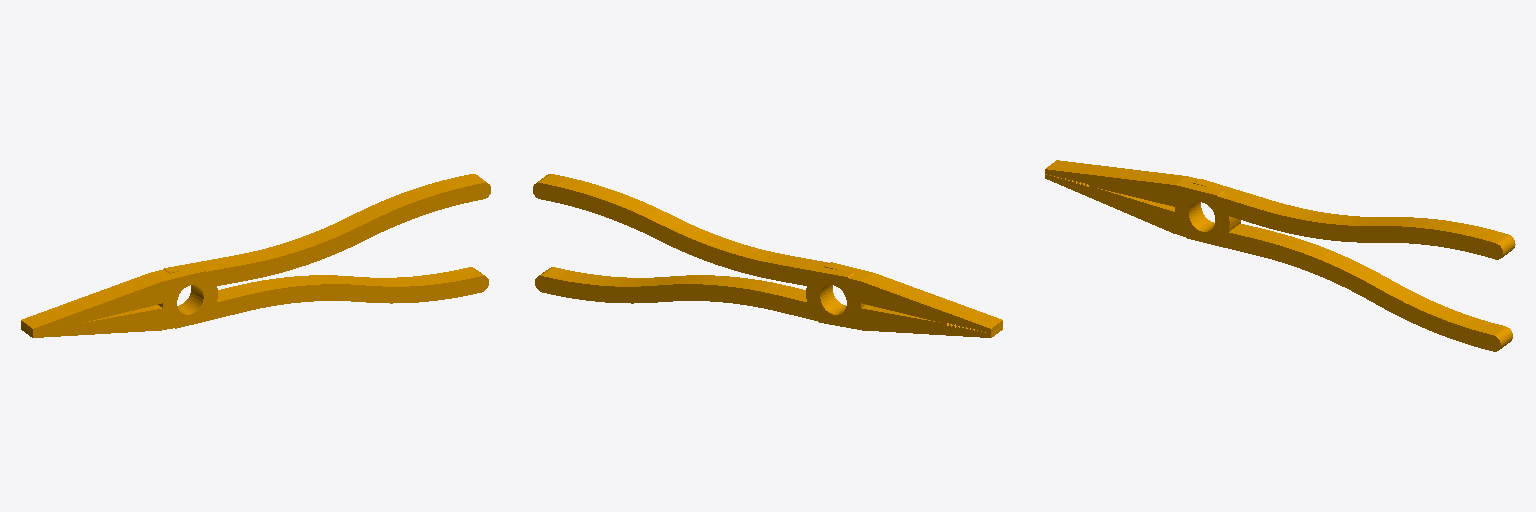
The robot description file, URDF, robot "plier_2_L0.65_T0.68":
<?xml version="1.0" encoding="utf-8"?>
<robot name="plier_2_L0.65_T0.68">
  <link name="plier_2_L0.65_T0.68Link">
    <contact>
      <lateral_friction value="1"/>
    </contact>
    <inertial>
      <origin rpy="0 0 0" xyz="0 0 0"/>
      <mass value="0.0"/>
      <inertia ixx="0" ixy="0" ixz="0" iyy="0" iyz="0" izz="0"/>
    </inertial>
    <visual>
      <origin rpy="0 0 0" xyz="0 0 0"/>
      <geometry>
        <mesh filename="generated_stl/plier/plier_2/plier_2_L0.65_T0.68/plier_2_L0.65_T0.68.stl" scale="0.01 0.01 0.01"/>
      </geometry>
    </visual>
    <collision>
      <origin rpy="0 0 0" xyz="0 0 0"/>
      <geometry>
        <mesh filename="generated_stl/plier/plier_2/plier_2_L0.65_T0.68/plier_2_L0.65_T0.68.stl" scale="0.01 0.01 0.01"/>
      </geometry>
    </collision>
  </link>
</robot>

--- Render facts (derived) ---
Views: 3 orthographic renders of the robot side by side, from view 1: azimuth 30°, elevation 25°; view 2: azimuth 150°, elevation 25°; view 3: azimuth 330°, elevation 25°.
Model plier_2_L0.65_T0.68 with 1 links and 0 joints (none), rooted at plier_2_L0.65_T0.68Link, posed all joints at 0.
Visible links, largest first — view 1: plier_2_L0.65_T0.68Link; view 2: plier_2_L0.65_T0.68Link; view 3: plier_2_L0.65_T0.68Link.
Boxes of the visible links, bbox=[...] form: plier_2_L0.65_T0.68Link: bbox=[21, 174, 490, 337]; plier_2_L0.65_T0.68Link: bbox=[533, 174, 1002, 337]; plier_2_L0.65_T0.68Link: bbox=[1045, 160, 1515, 351].
Bounding box of the posed robot: 0.0516 × 0.0024 × 0.0118 m (x, y, z).
1 mesh visuals loaded from 1 distinct referenced files (1 binary STL).